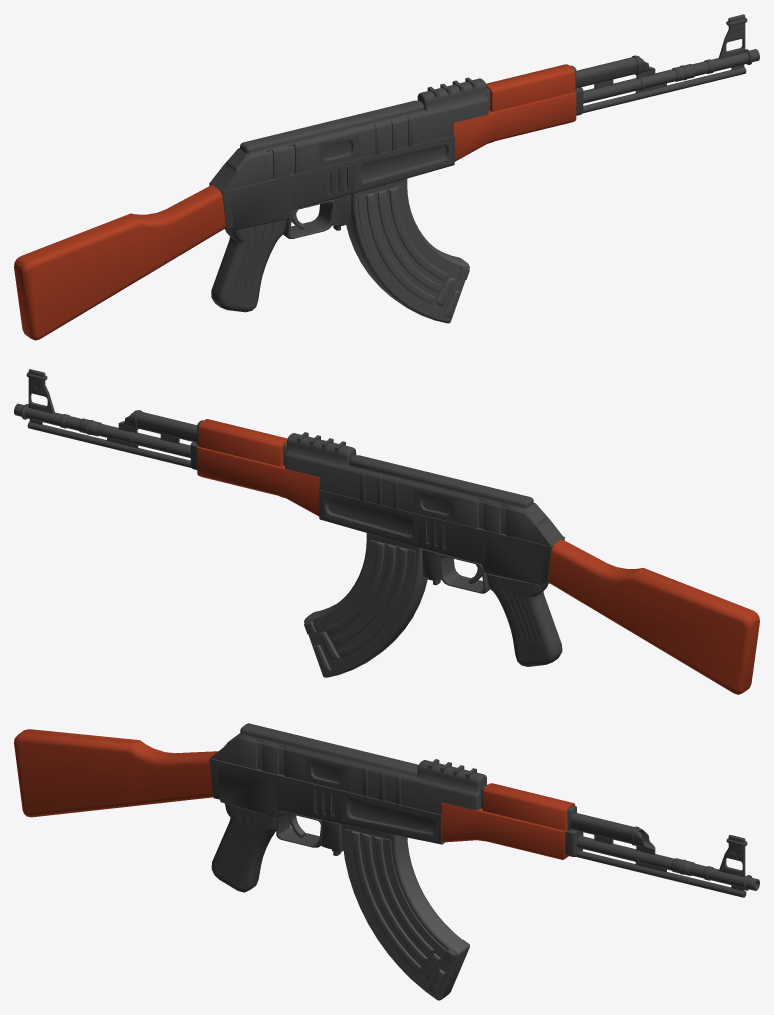
3 renders of one model, top to bottom at view 1: azimuth 30°, elevation 25°; view 2: azimuth 150°, elevation 25°; view 3: azimuth 330°, elevation 25°, orthographic.
Parts seen in each view (by area): view 1: Cube.001, Cube; view 2: Cube.001, Cube; view 3: Cube.001, Cube.
Part boxes in pixels (x1,y1,x2,y2): Cube.001: [14, 14, 759, 340]; Cube: [346, 178, 469, 323]; Cube.001: [14, 369, 759, 694]; Cube: [304, 533, 427, 677]; Cube.001: [14, 723, 759, 897]; Cube: [341, 824, 469, 1000].
Bounding box in the file's own units: 3.73 × 1.12 × 0.1461.
Materials: 2 (2 with a texture image).
